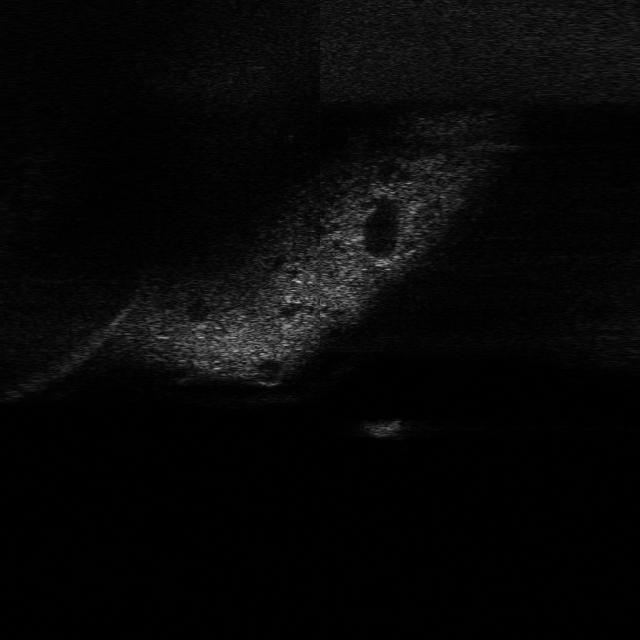cube: (358, 413, 404, 443)
